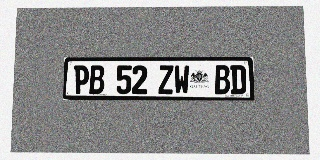2: (132, 65, 147, 94)
5: (116, 65, 132, 94)
B: (89, 65, 105, 94), (214, 65, 230, 94)
D: (230, 65, 246, 94)
P: (74, 65, 89, 94)
W: (174, 65, 189, 94)
Z: (158, 65, 174, 94)
